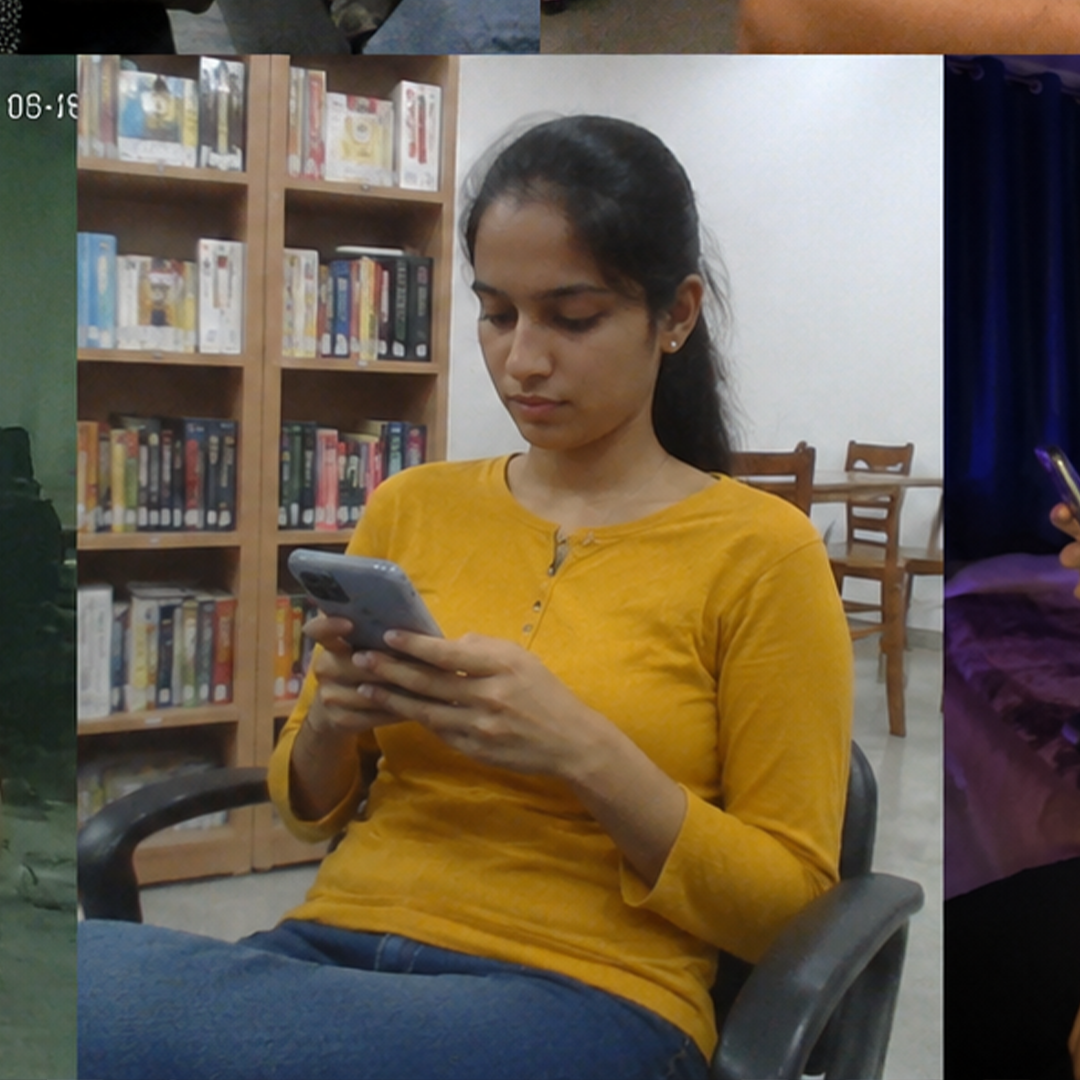distracted: (256, 98, 831, 1039)
